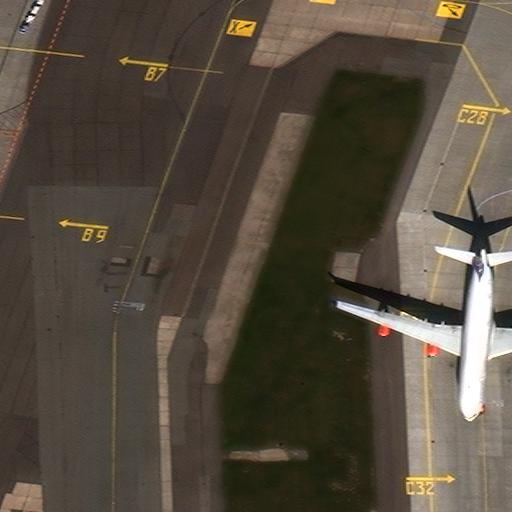Large Civil Transport: (337, 247, 511, 422)
